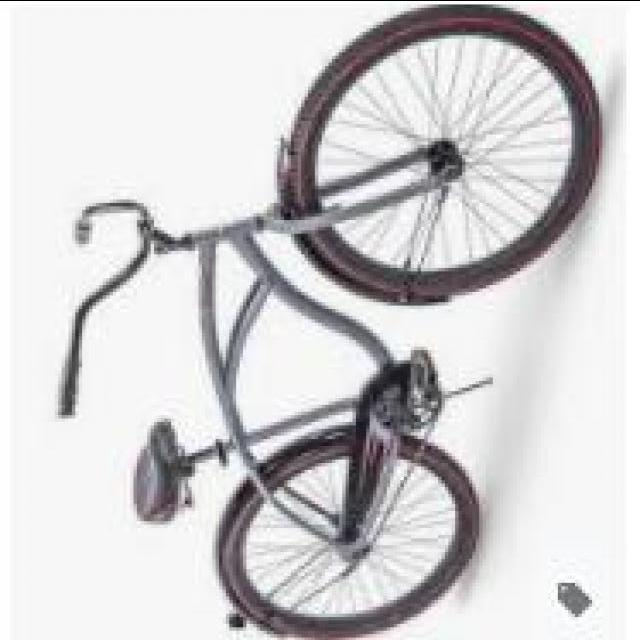bicycle: (56, 8, 604, 634)
